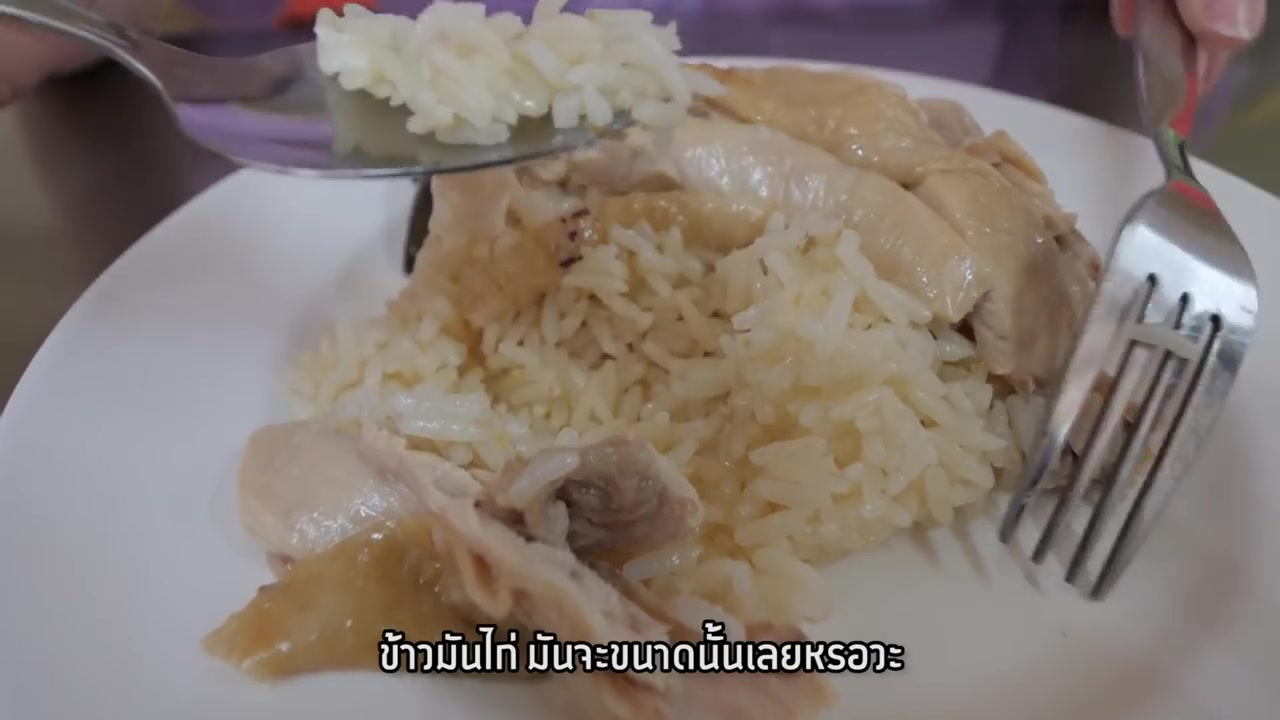text-label: (376, 614, 909, 674)
